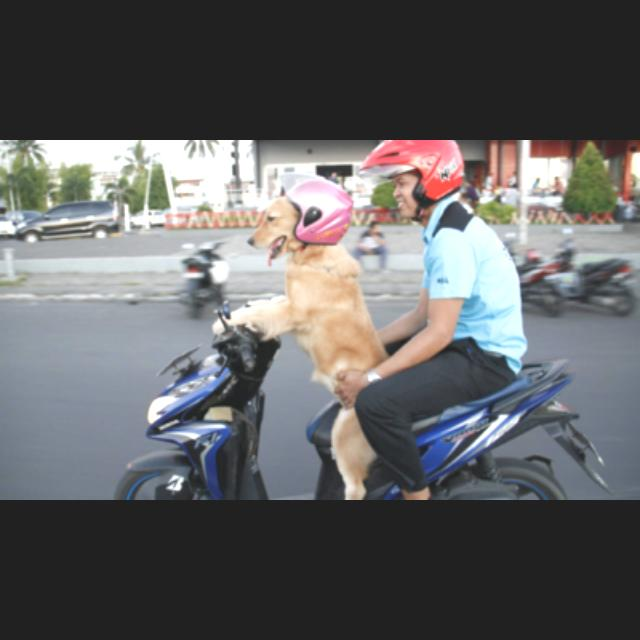With Helmet: (365, 140, 461, 222)
